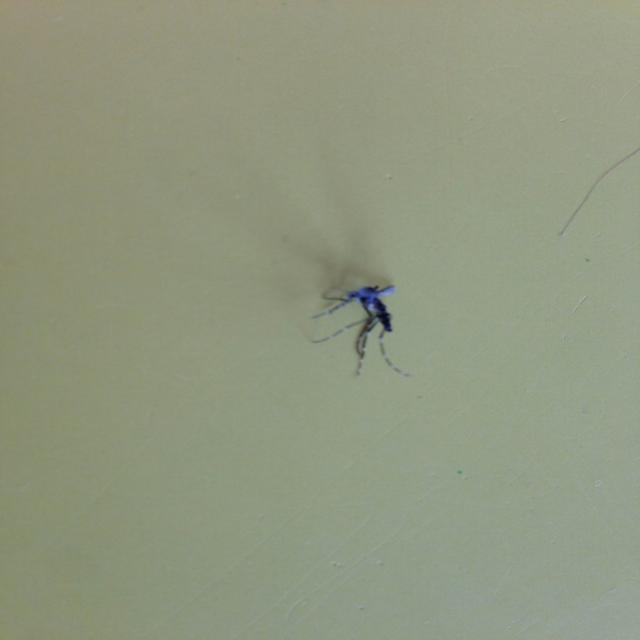albopictus: (301, 276, 413, 378)
